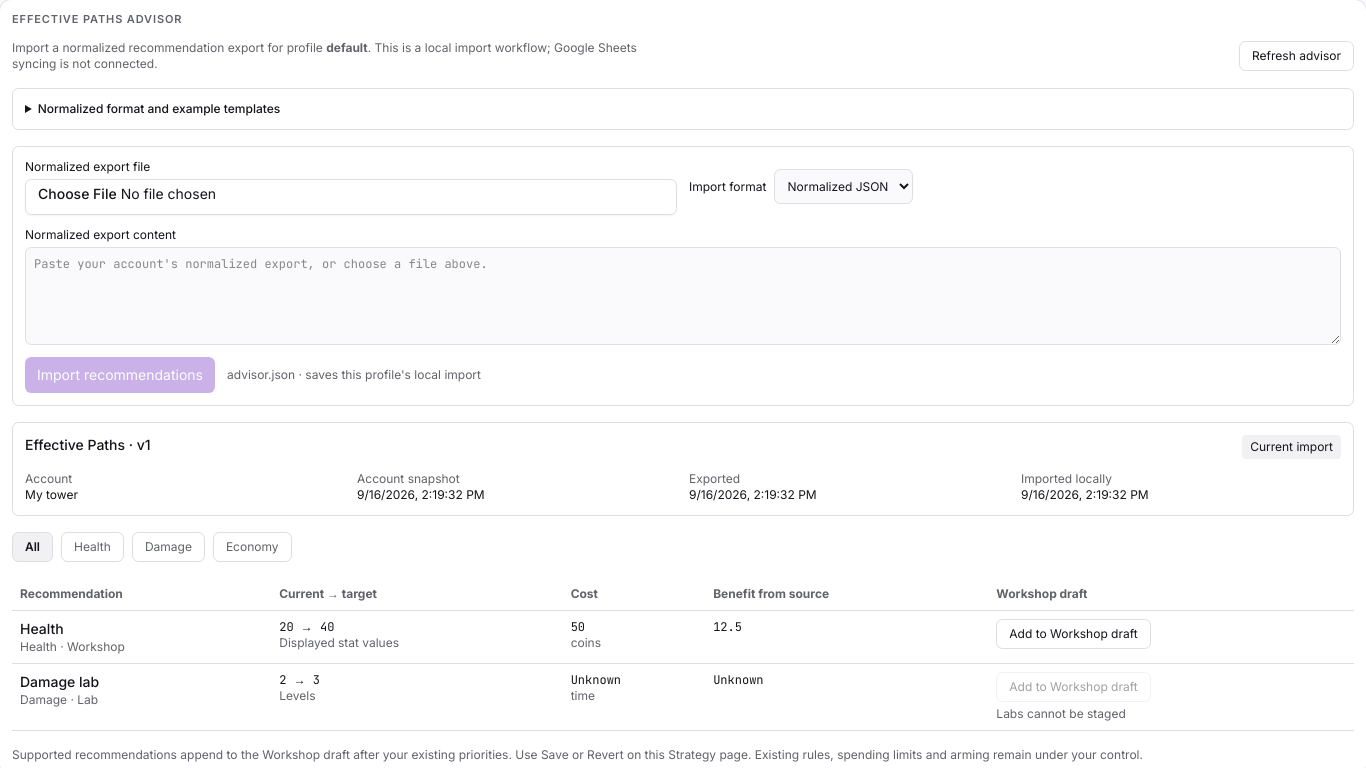
Test case: AdvisorPanel › keeps existing duplicate rules unchanged when the server declines to add one
Click the button with aria-label "Add Health to Workshop draft": click(1073, 634) [996,619,1151,649]
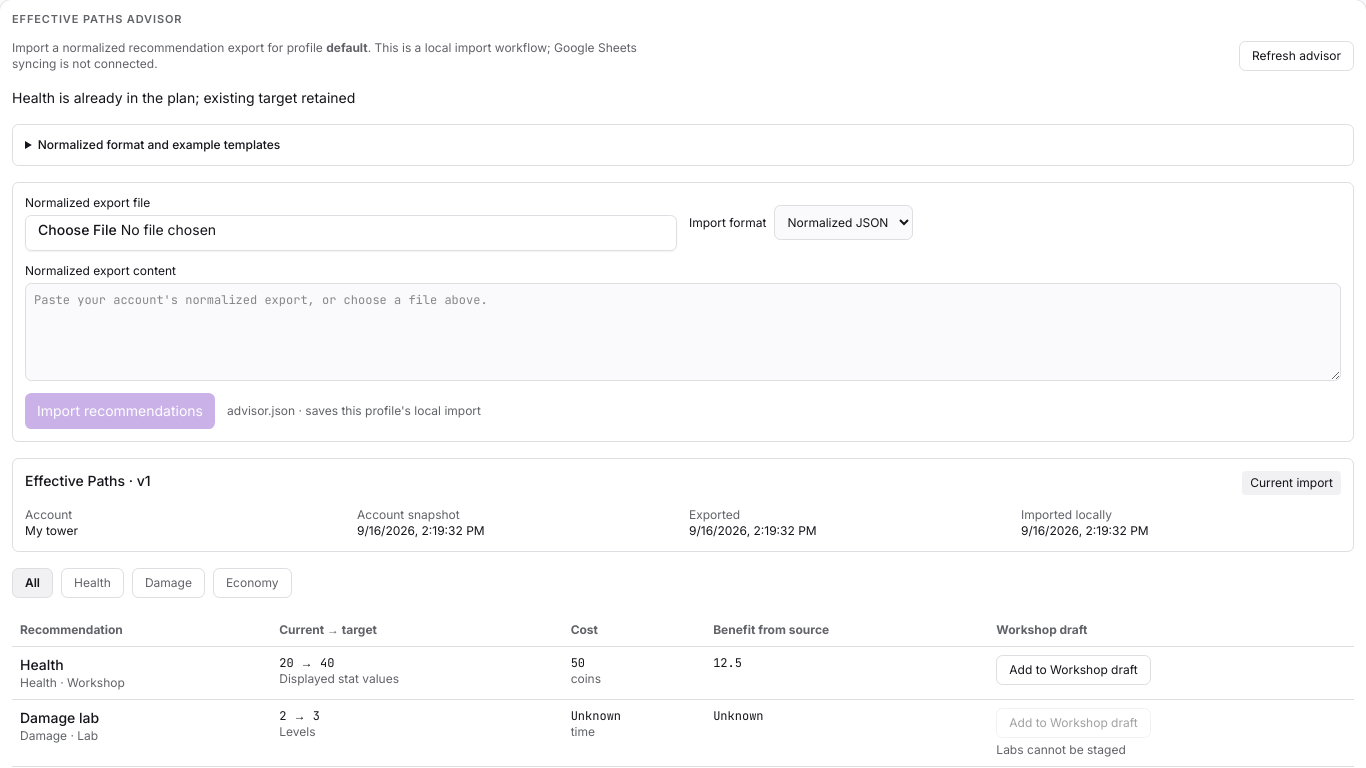
Result: the text "Health is already in the plan; existing target retained" is shown at [12,89,355,106]
